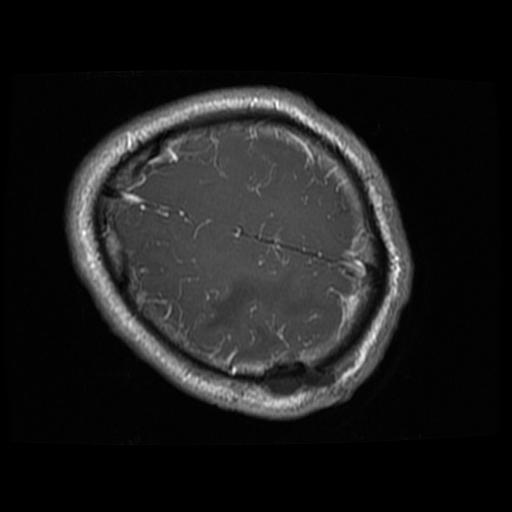glioma: (260, 358, 335, 397)
